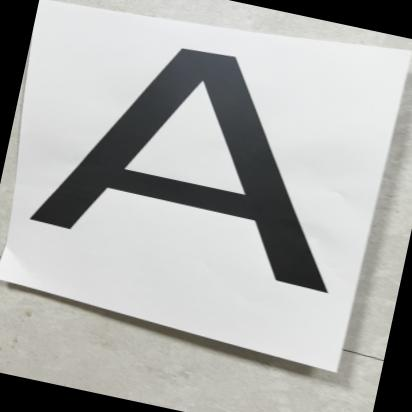seat: (6, 12, 412, 345)
